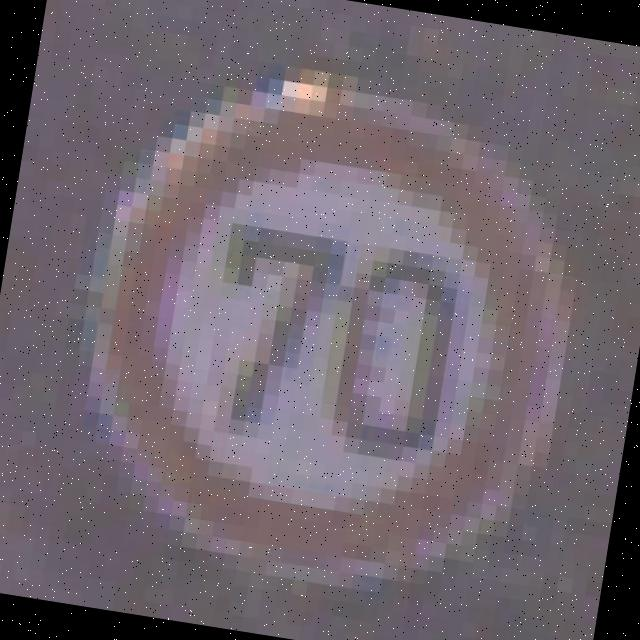Ograniczenie predkosci do 70: (80, 80, 577, 592)
